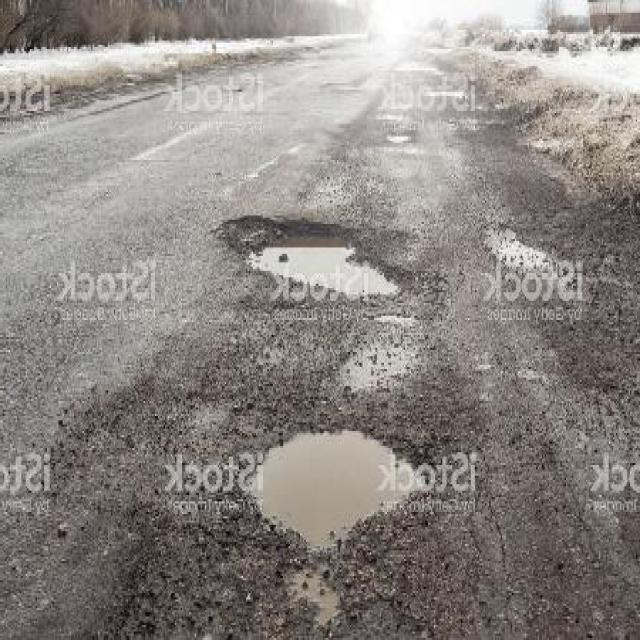pothole: (229, 412, 445, 557), (231, 207, 411, 306)
